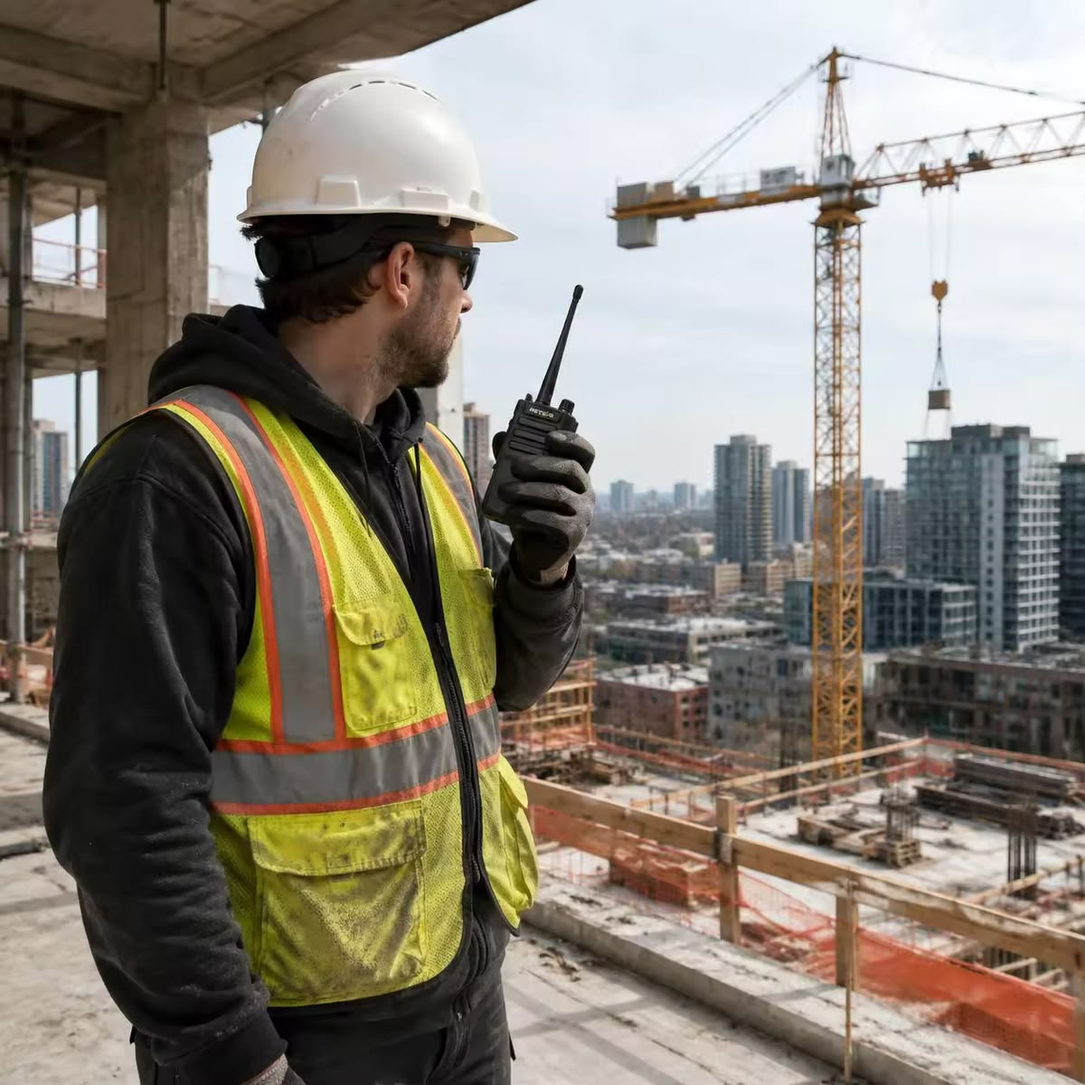crane: (586, 32, 1045, 1048)
hardhat: (226, 43, 493, 242)
person: (55, 54, 668, 1075)
safety_vest: (155, 375, 532, 1021)
